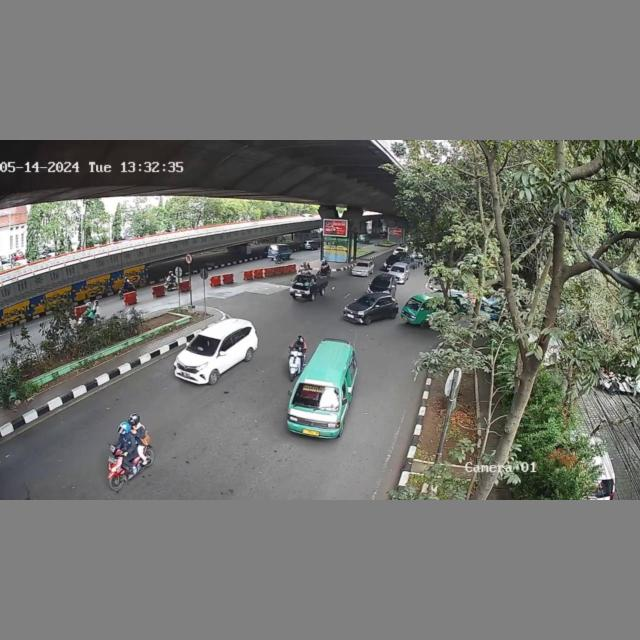windshield: (293, 383, 337, 413), (187, 335, 221, 355), (294, 275, 312, 286)
